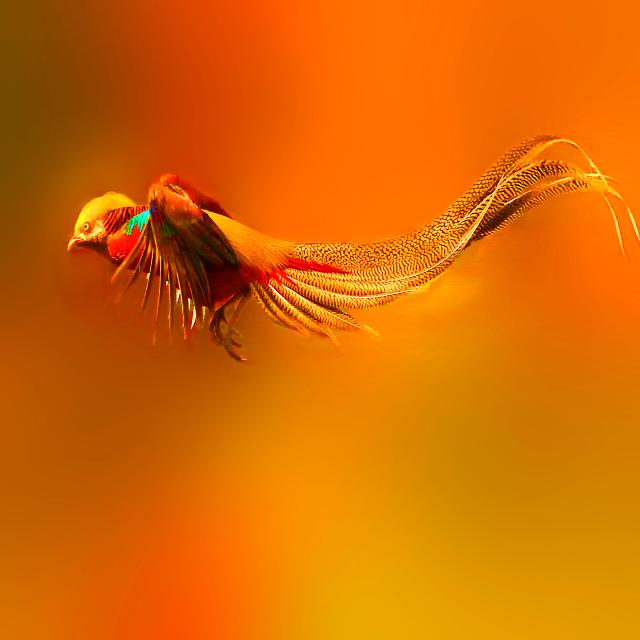Chrysolophus pictus feather: (255, 135, 640, 344)
